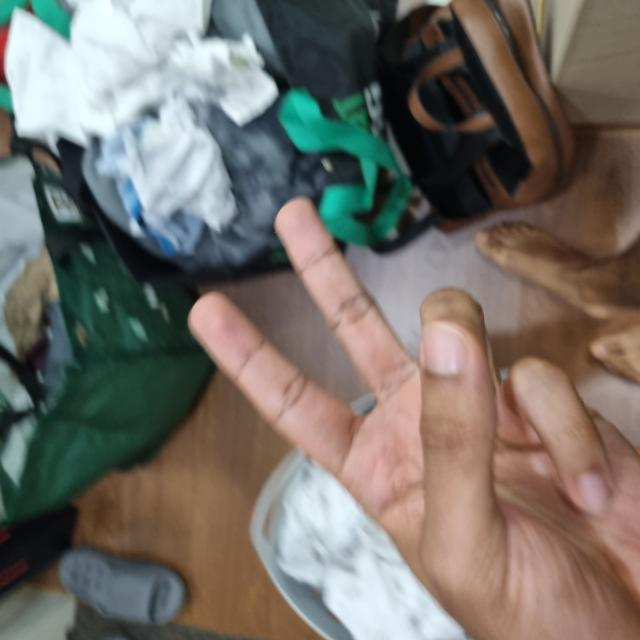Scissors: (0, 192, 437, 640)
